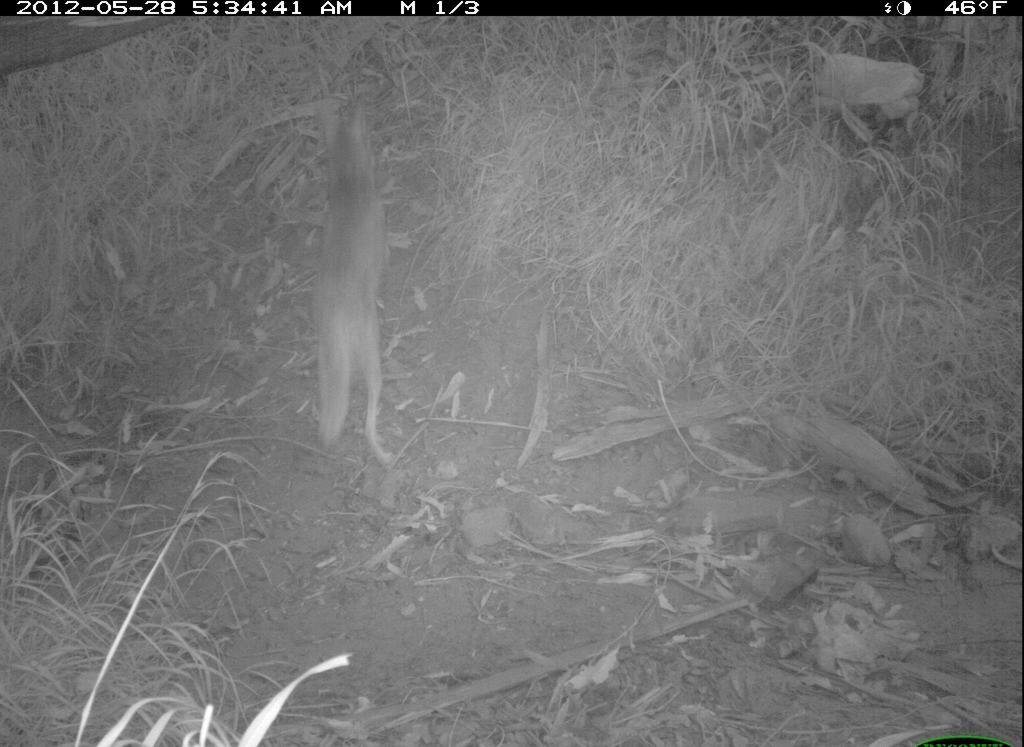coyote: (301, 84, 402, 472)
